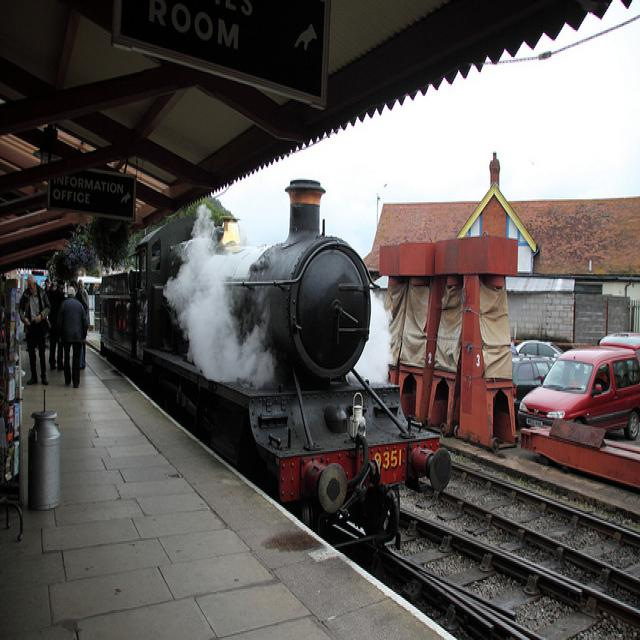Vehicle: (517, 342, 640, 440), (597, 331, 640, 396), (510, 356, 552, 412), (515, 339, 572, 357)
